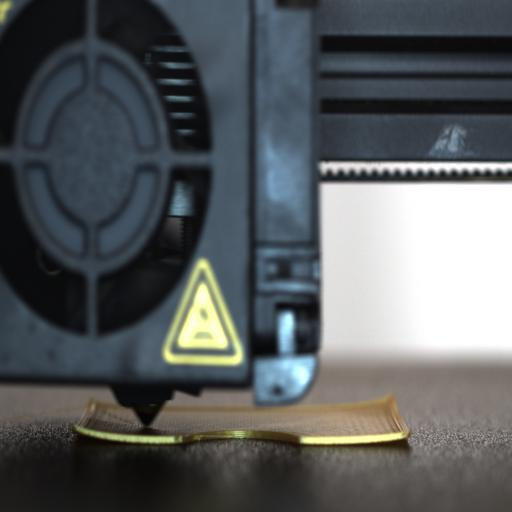warp: (74, 426, 190, 445), (298, 430, 404, 446)
